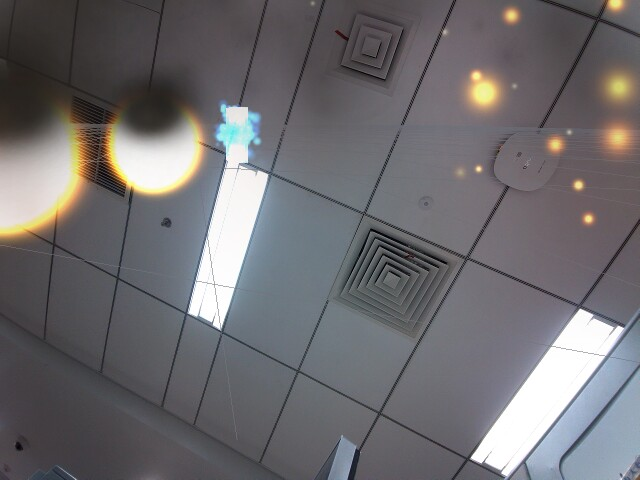fire: (0, 89, 88, 244), (105, 88, 202, 192)
